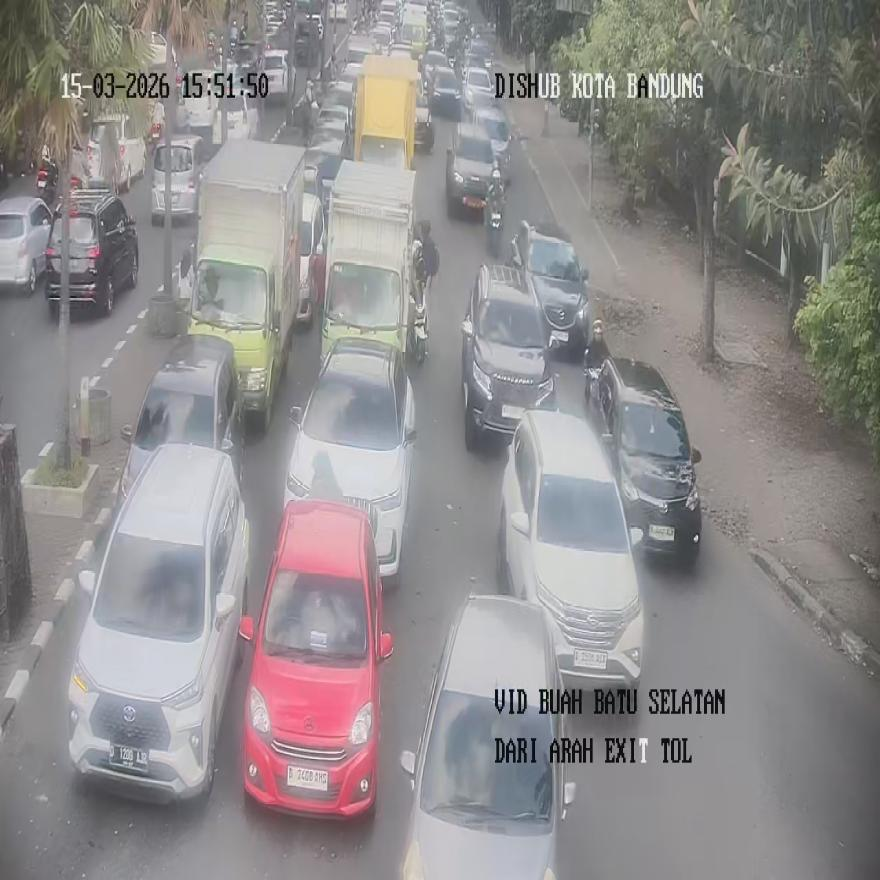Motor: (66, 442, 250, 803), (399, 594, 575, 879), (238, 498, 392, 818), (496, 410, 645, 689), (284, 336, 416, 578), (586, 356, 702, 564), (112, 334, 242, 514), (460, 263, 554, 448), (44, 187, 139, 315), (512, 219, 589, 354), (0, 196, 54, 292), (150, 136, 203, 224)
Truk: (486, 177, 504, 257), (410, 300, 427, 366)
